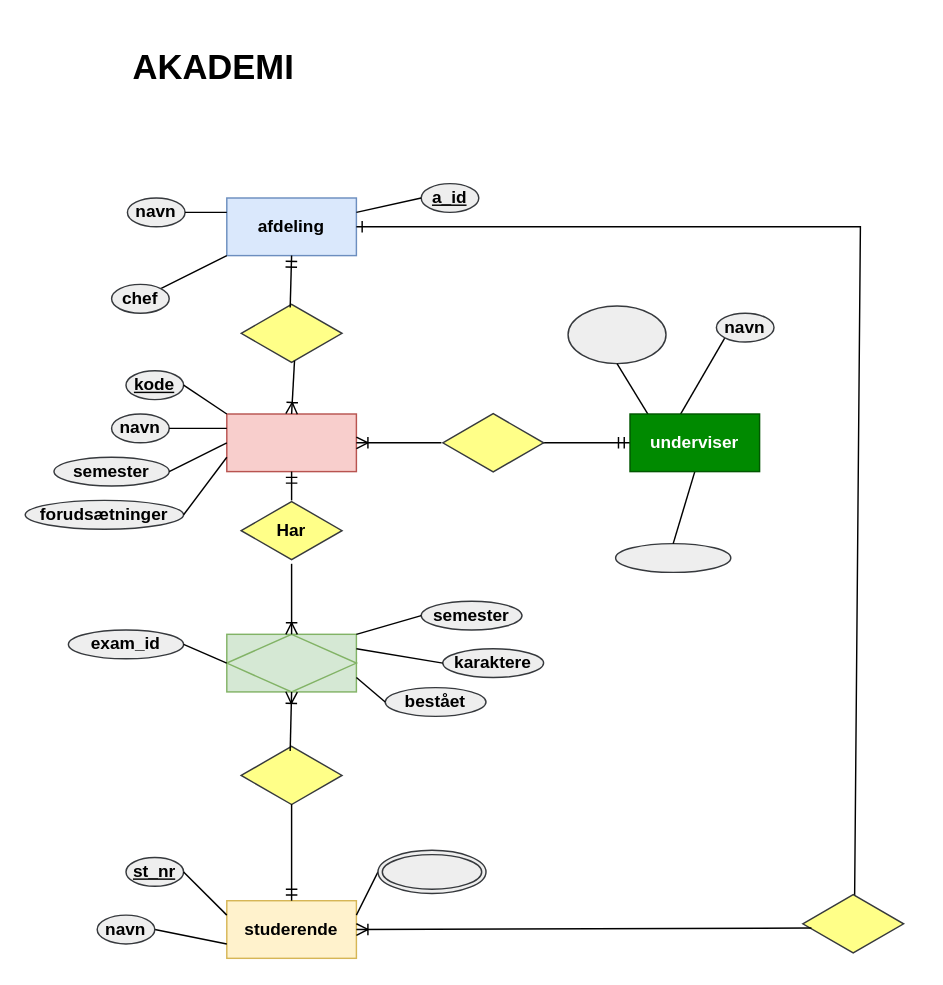
This 943x985 diagram has some shape labels left out. The shapes that lost their labels are listed below. From the top down, each one's centre as x and y in pixels, then its label:
pixel 291 333: Tilbyder
pixel 616 334: u_id
pixel 290 442: kursus
pixel 492 442: Ansvarlig
pixel 672 557: kvalifikation
pixel 290 662: overblik
pixel 291 775: Deltager
pixel 431 871: adresse
pixel 852 923: Tilmeldt
